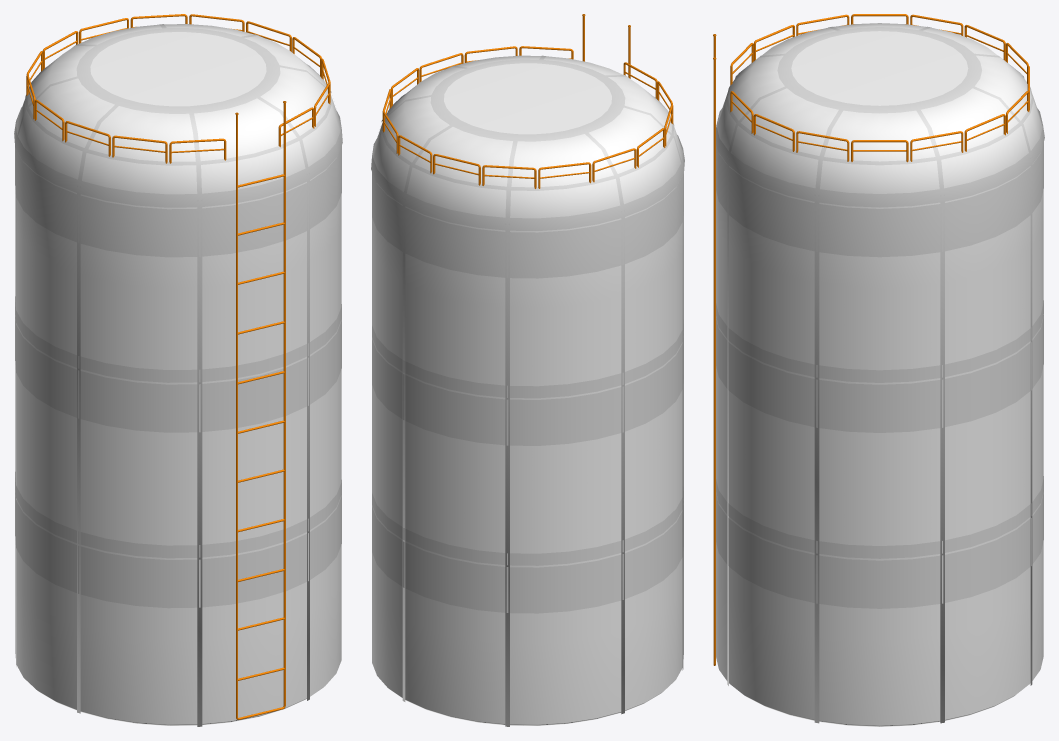
Rendered from TestTank.fbx.
3 views of the same model, side by side, from view 1: azimuth 30°, elevation 25°; view 2: azimuth 150°, elevation 25°; view 3: azimuth 270°, elevation 25° (orthographic). The views are drawn at different scales.
Visible parts, largest first — view 1: Cylinder.007, StylizedHardSurface_Panels_009.016, Plane.017, StylizedHardSurface_Panels_006.005, StylizedHardSurface_Panels_006.004, StylizedHardSurface_TrimDecals_009.003, StylizedHardSurface_Panels_002.086; view 2: Cylinder.007, StylizedHardSurface_Panels_009.016, StylizedHardSurface_TrimDecals_009.003, StylizedHardSurface_Panels_006.005, StylizedHardSurface_Panels_006.004, Plane.017, StylizedHardSurface_Panels_002.086; view 3: Cylinder.007, StylizedHardSurface_Panels_009.016, StylizedHardSurface_TrimDecals_009.003, StylizedHardSurface_Panels_006.005, StylizedHardSurface_Panels_006.004, Plane.017, StylizedHardSurface_Panels_002.086.
Boxes of the visible parts, bbox=[...] form: Cylinder.007: bbox=[15, 24, 341, 725]; StylizedHardSurface_Panels_009.016: bbox=[15, 146, 341, 608]; Plane.017: bbox=[26, 14, 330, 719]; StylizedHardSurface_Panels_006.005: bbox=[15, 296, 341, 558]; StylizedHardSurface_Panels_006.004: bbox=[14, 28, 342, 207]; StylizedHardSurface_TrimDecals_009.003: bbox=[16, 24, 331, 726]; StylizedHardSurface_Panels_002.086: bbox=[25, 64, 331, 165]; Cylinder.007: bbox=[372, 55, 683, 725]; StylizedHardSurface_Panels_009.016: bbox=[372, 172, 683, 613]; StylizedHardSurface_TrimDecals_009.003: bbox=[381, 55, 683, 726]; StylizedHardSurface_Panels_006.005: bbox=[372, 319, 683, 565]; StylizedHardSurface_Panels_006.004: bbox=[371, 59, 684, 230]; Plane.017: bbox=[382, 14, 673, 188]; StylizedHardSurface_Panels_002.086: bbox=[381, 94, 674, 190]; Cylinder.007: bbox=[716, 23, 1043, 726]; StylizedHardSurface_Panels_009.016: bbox=[716, 143, 1043, 608]; StylizedHardSurface_TrimDecals_009.003: bbox=[727, 26, 1032, 723]; StylizedHardSurface_Panels_006.005: bbox=[716, 300, 1043, 558]; StylizedHardSurface_Panels_006.004: bbox=[716, 27, 1044, 207]; Plane.017: bbox=[713, 14, 1029, 665]; StylizedHardSurface_Panels_002.086: bbox=[726, 66, 1033, 165].
Size of the model in its own units: 1209 by 2474 by 1214.
